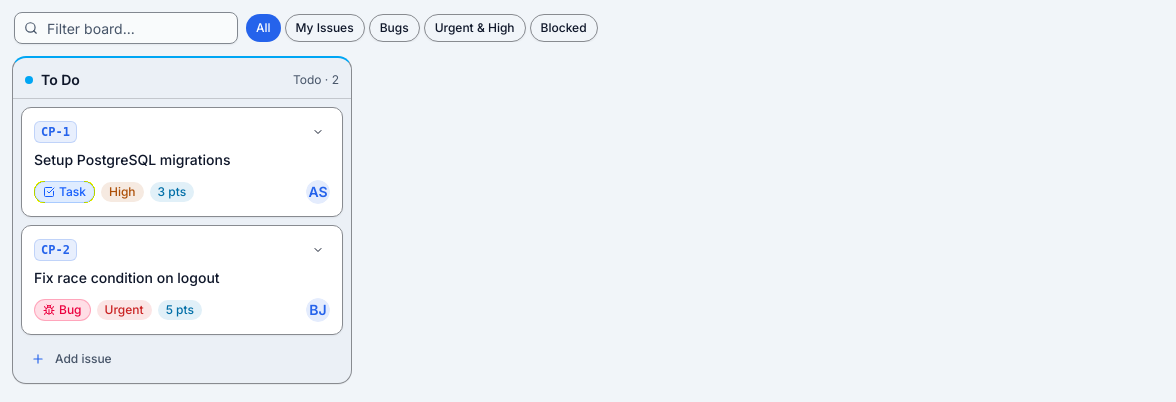
Test: BoardView › filters cards by search term
The width and height of the screenshot is (1176, 402).
Type "PostgreSQL" into the field with placeholder "Filter board..." at (126, 28), box [14,12,238,44]
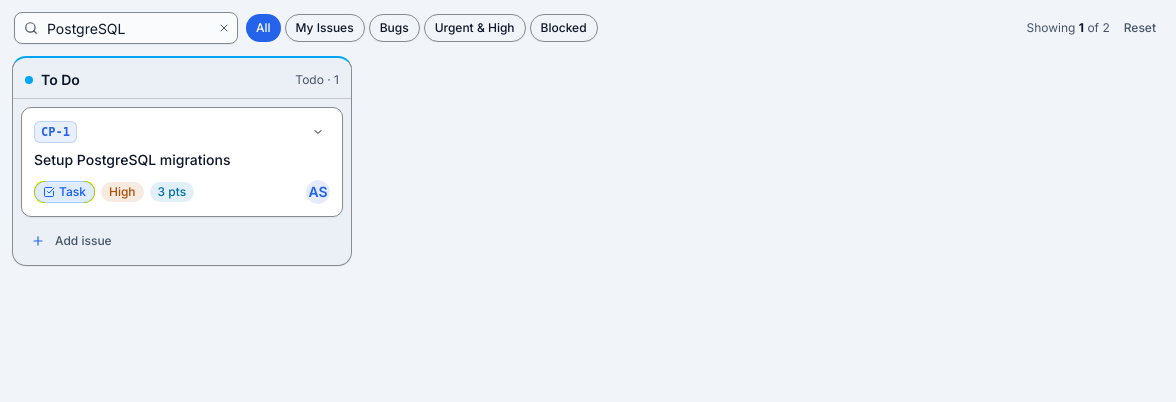
Check: the button "Setup PostgreSQL migrations" is shown, box [34,150,330,170]
Check: the button "Fix race condition on logout" is gone
